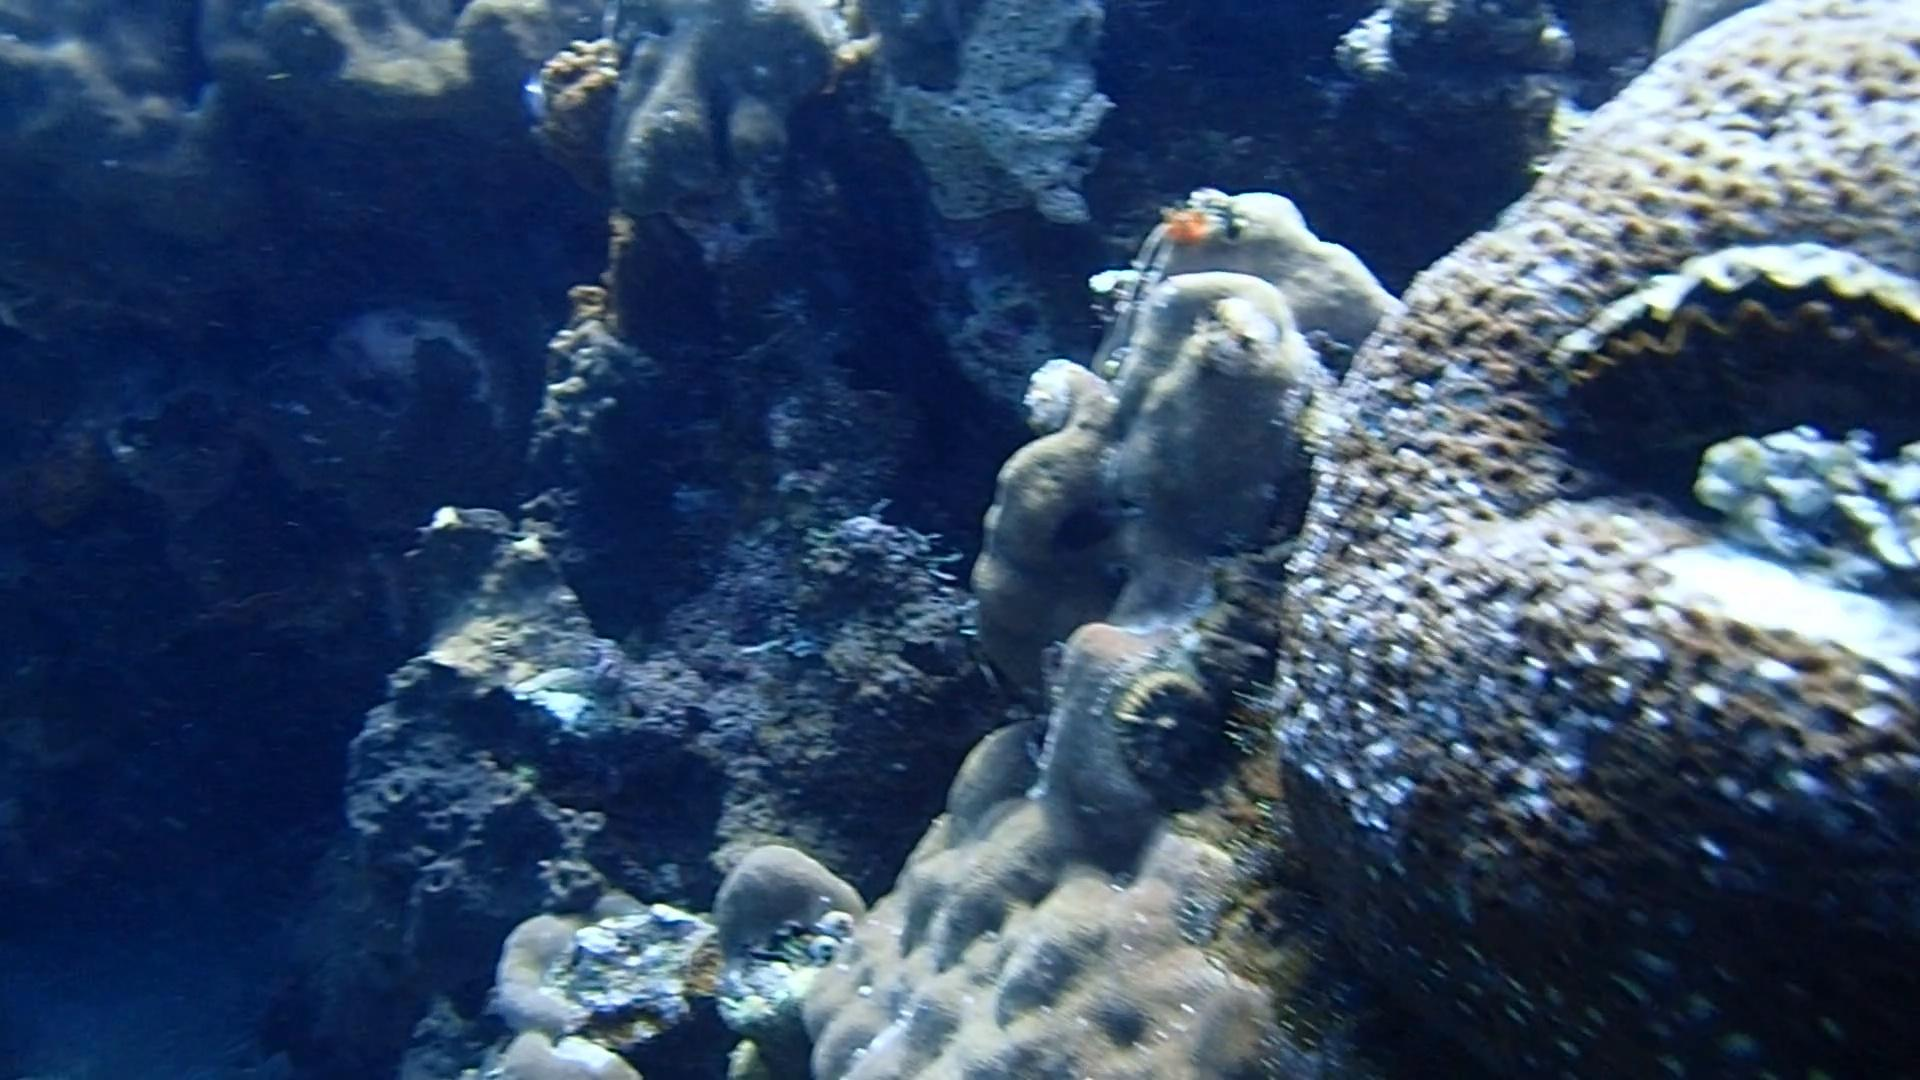Dark Fish: (1033, 491, 1134, 566), (881, 628, 973, 691)
